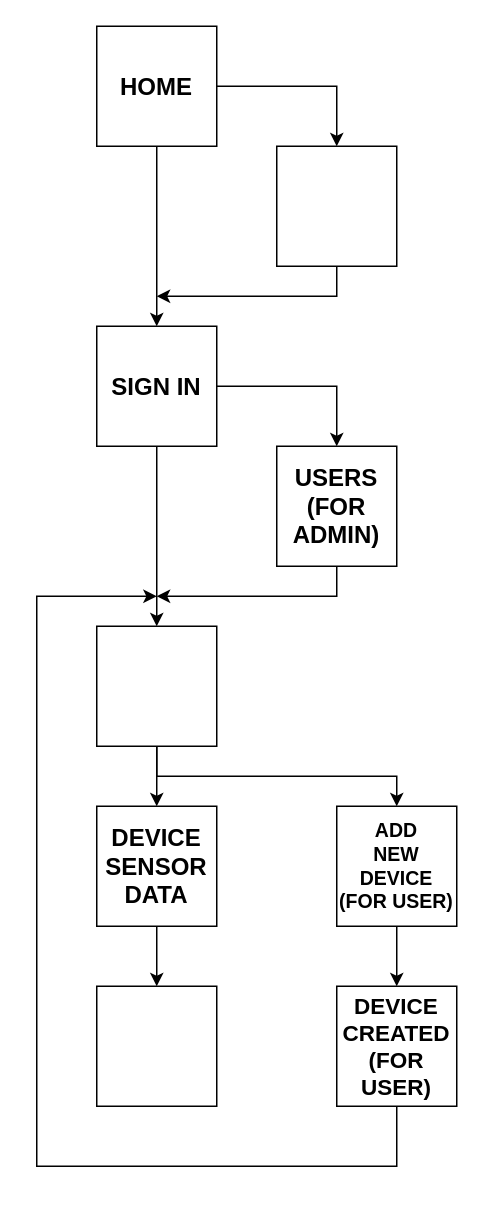
This 483x1205 diagram has some shape labels left out. The centre of each missing label's shape, as x and y in pixels:
DEVICE LOGS: pixel 156 1045
DEVICES: pixel 156 685
SIGN UP: pixel 336 205
